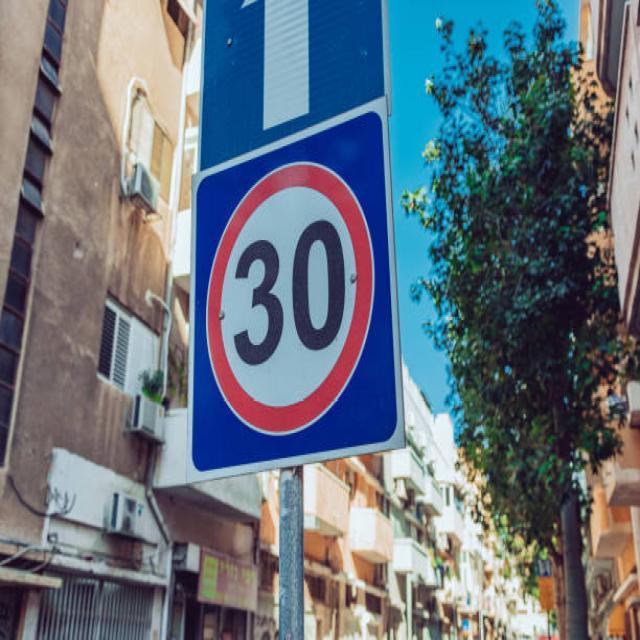Speed limit 30: (206, 159, 376, 443)
